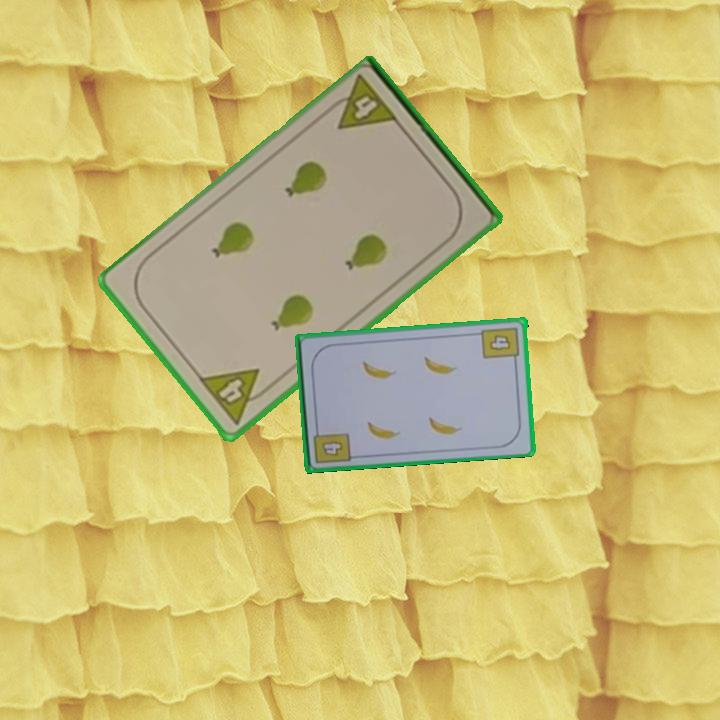4b: (479, 323, 522, 366), (318, 437, 346, 459)
4p: (195, 365, 275, 428), (322, 72, 402, 134)
